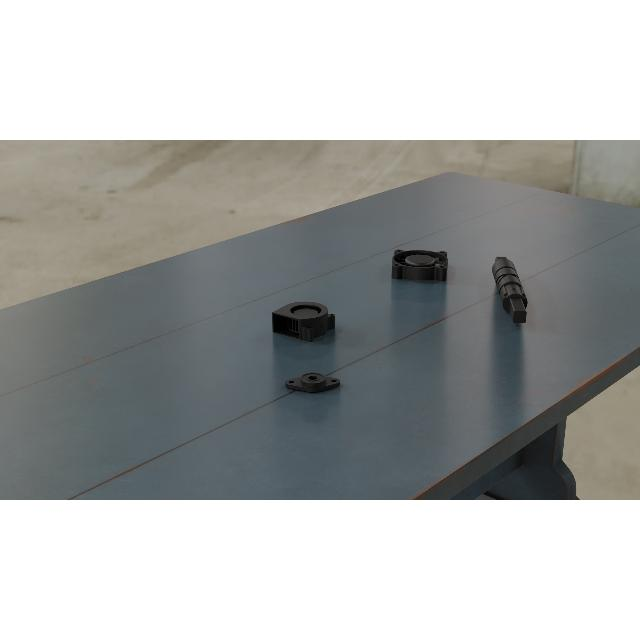Pieza1: (490, 251, 534, 329)
Pieza2: (284, 371, 342, 393)
Pieza3: (272, 298, 338, 344)
Pieza4: (390, 250, 448, 282)
